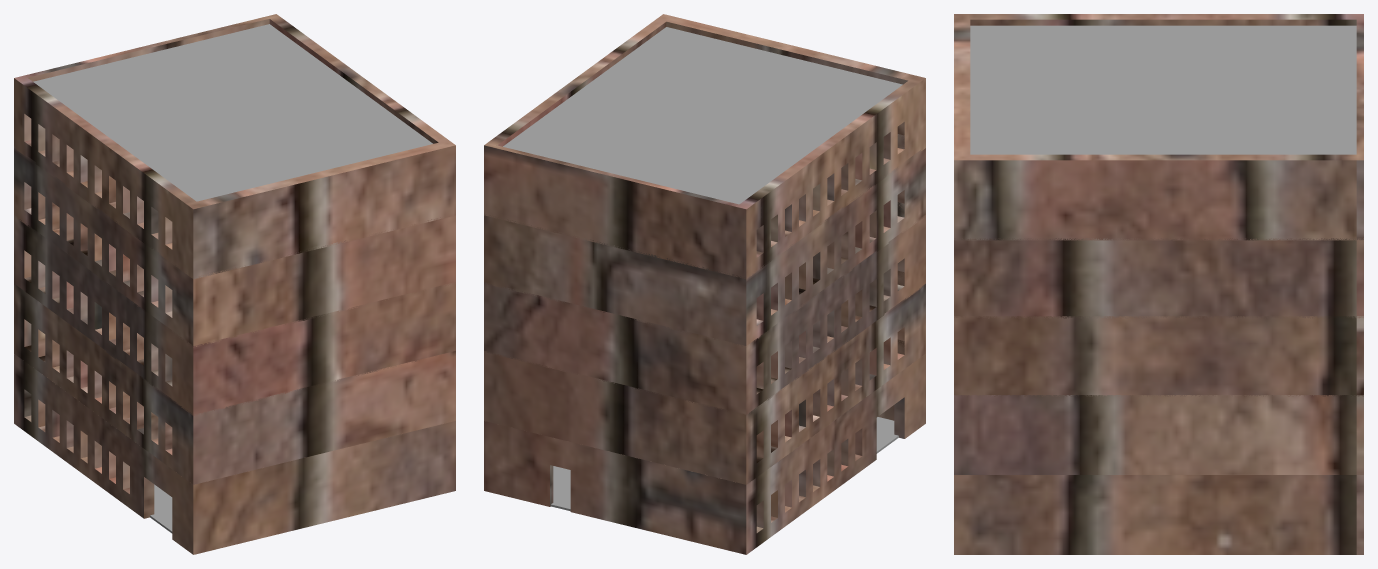
File: building2.fbx
3 views of the same model, side by side, from view 1: azimuth 30°, elevation 25°; view 2: azimuth 150°, elevation 25°; view 3: azimuth 270°, elevation 25° (orthographic). The views are drawn at different scales.
Parts seen in each view (by area): view 1: pCube17; view 2: pCube17; view 3: pCube17.
Boxes of the visible parts, box(x1,y1,x2,y2) form: pCube17: box(14, 14, 455, 554); pCube17: box(484, 14, 925, 554); pCube17: box(954, 14, 1363, 554).
Size of the model in its own units: 47.33 by 59.56 by 56.04.
